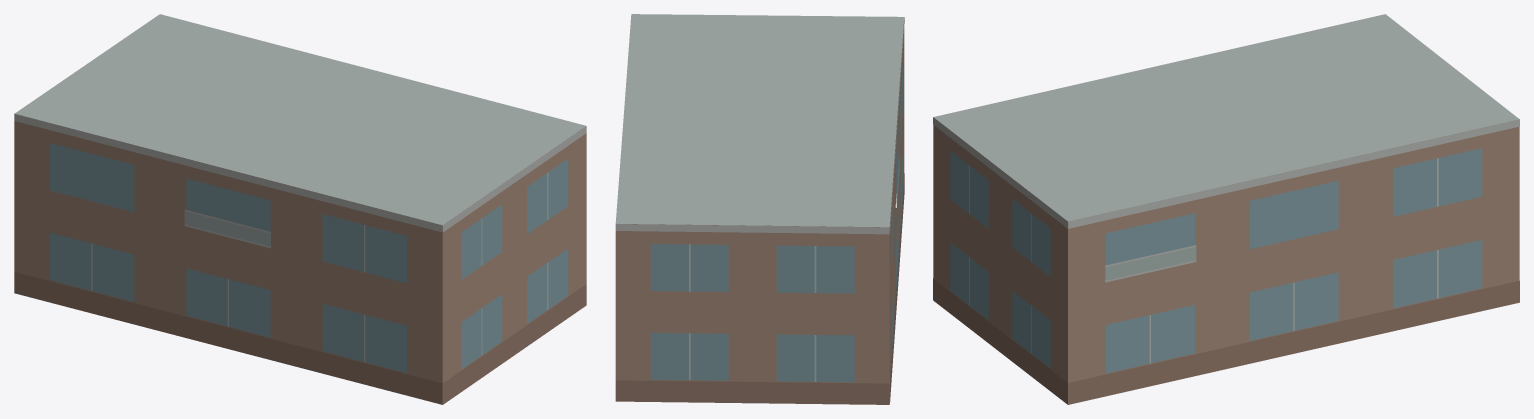
The model's file is survey-upis-32515276.glb.
3 views of the same model, side by side, from view 1: azimuth 30°, elevation 25°; view 2: azimuth 150°, elevation 25°; view 3: azimuth 270°, elevation 25° (orthographic). The views are drawn at different scales.
Parts seen in each view (by area): view 1: survey-upis-32515276.tmp; view 2: survey-upis-32515276.tmp; view 3: survey-upis-32515276.tmp.
Part boxes in pixels (x1=…): survey-upis-32515276.tmp: x1=14, y1=14, x2=586, y2=404; survey-upis-32515276.tmp: x1=615, y1=14, x2=904, y2=404; survey-upis-32515276.tmp: x1=933, y1=14, x2=1519, y2=404.
Size of the model in its own units: 14.83 by 6.1 by 17.7.
